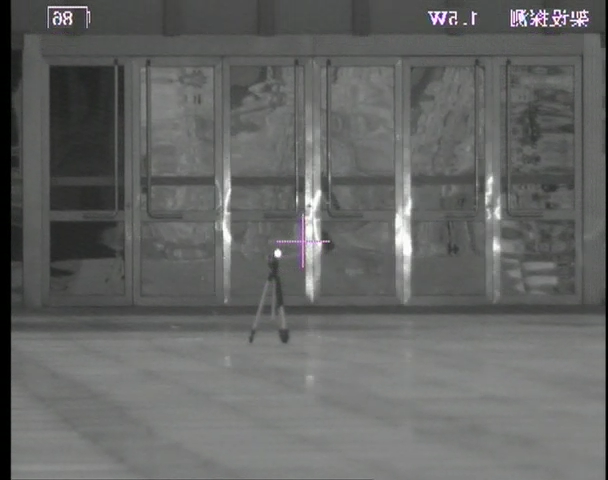my: (273, 247, 282, 258)
